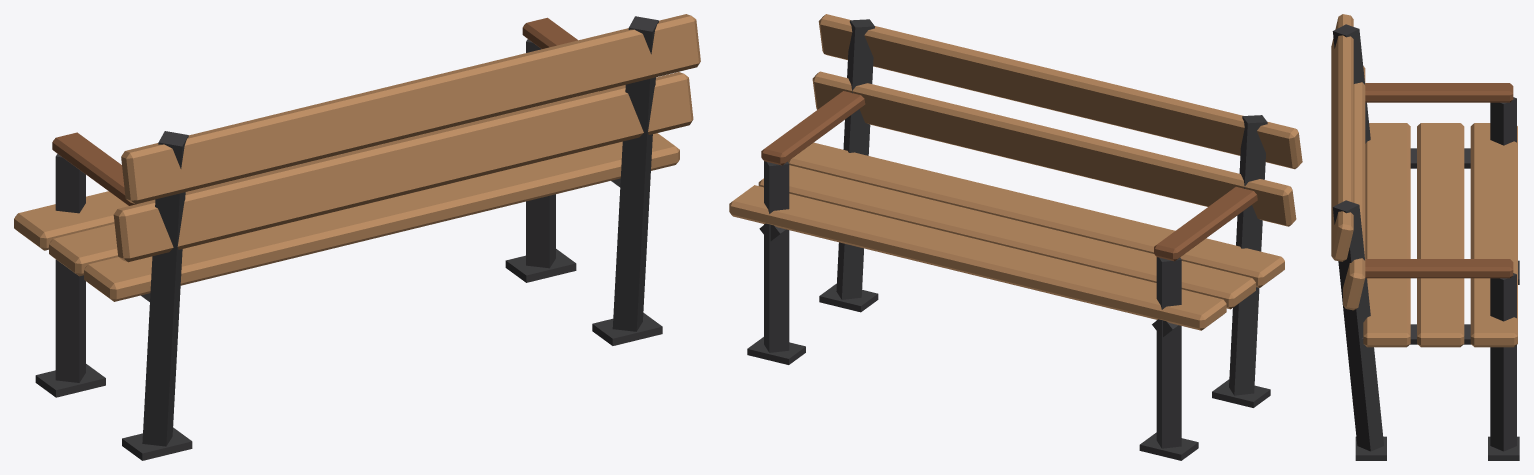
The model's file is seat_bench_v2.glb.
The picture shows the model from 3 angles, left to right: view 1: azimuth 30°, elevation 25°; view 2: azimuth 150°, elevation 25°; view 3: azimuth 270°, elevation 25°; orthographic projection. The views are drawn at different scales.
Parts seen in each view (by area): view 1: body; view 2: body; view 3: body.
Part boxes in pixels (left/top/right/bottom): body: left=14, top=14, right=700, bottom=460; body: left=729, top=14, right=1302, bottom=460; body: left=1331, top=14, right=1519, bottom=460.
Bounding box in the file's own units: 1.6 × 0.8679 × 0.5965.
